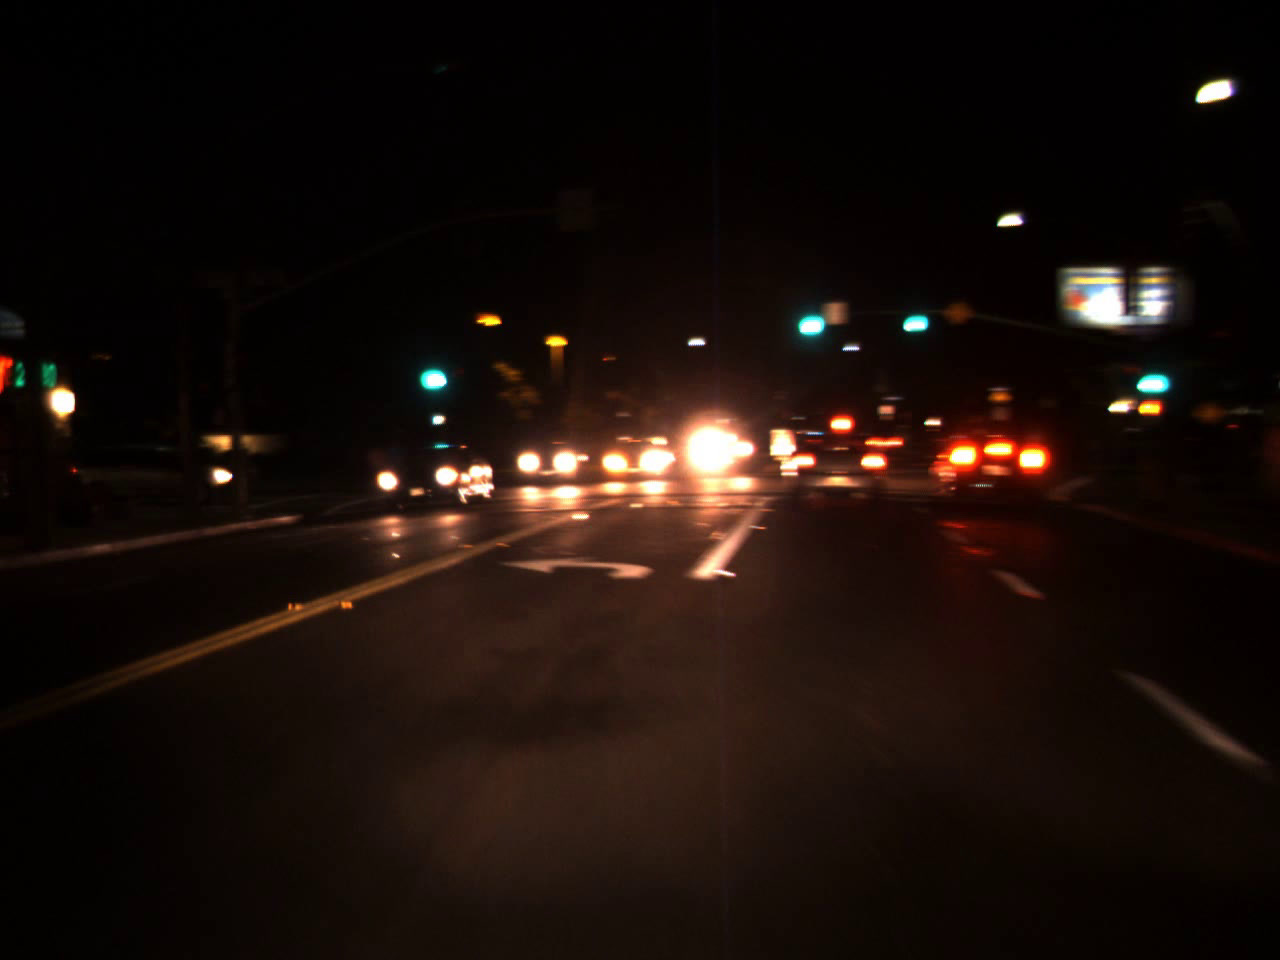go: (786, 287, 831, 344), (408, 341, 453, 398), (1122, 354, 1176, 399), (893, 299, 934, 332)
